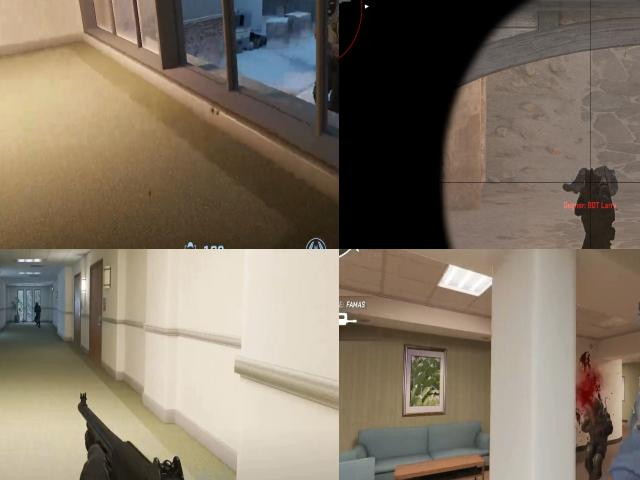CT: (578, 171, 610, 249), (33, 302, 44, 328)
CT-Head: (584, 172, 600, 192)
Dead: (582, 395, 612, 480), (567, 167, 619, 190)
T: (327, 0, 339, 76)
T-Head: (326, 0, 339, 15)
